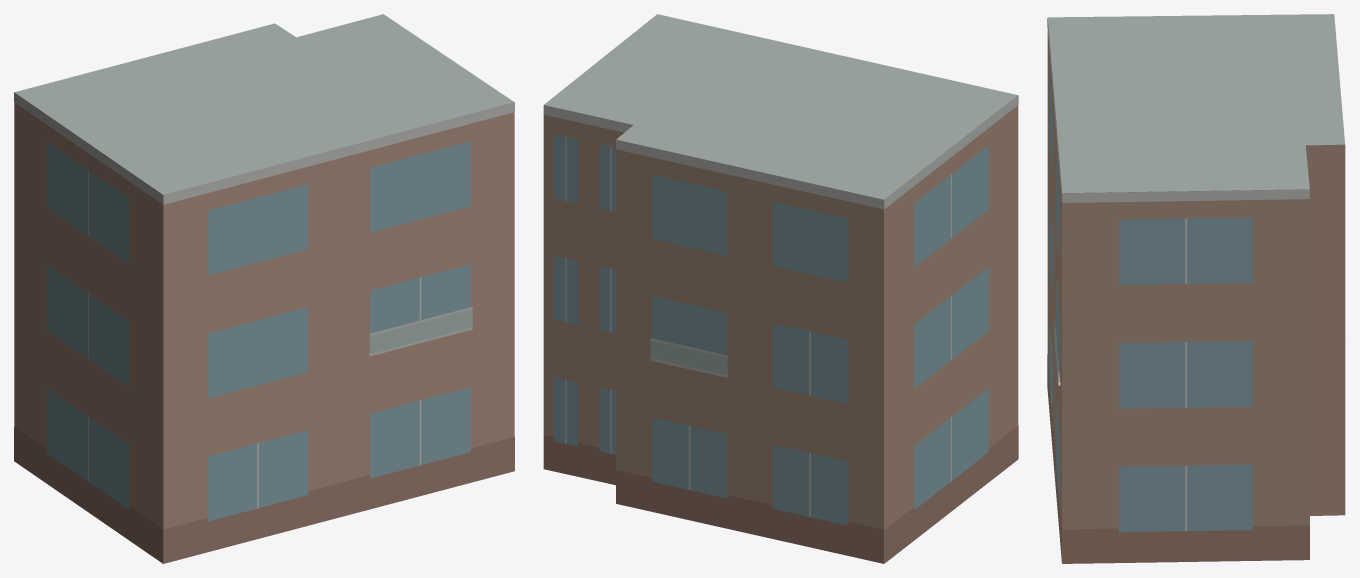
File: survey-upis-32927409.glb
3 renders of one model, left to right at view 1: azimuth 30°, elevation 25°; view 2: azimuth 150°, elevation 25°; view 3: azimuth 270°, elevation 25°, orthographic.
Visible parts, largest first — view 1: survey-upis-32927409.tmp; view 2: survey-upis-32927409.tmp; view 3: survey-upis-32927409.tmp.
Boxes of the visible parts, bbox=[...] form: survey-upis-32927409.tmp: bbox=[14, 14, 514, 563]; survey-upis-32927409.tmp: bbox=[543, 14, 1018, 563]; survey-upis-32927409.tmp: bbox=[1047, 14, 1345, 563].
Bounding box in the file's own units: 9.49 × 9.15 × 6.67.
